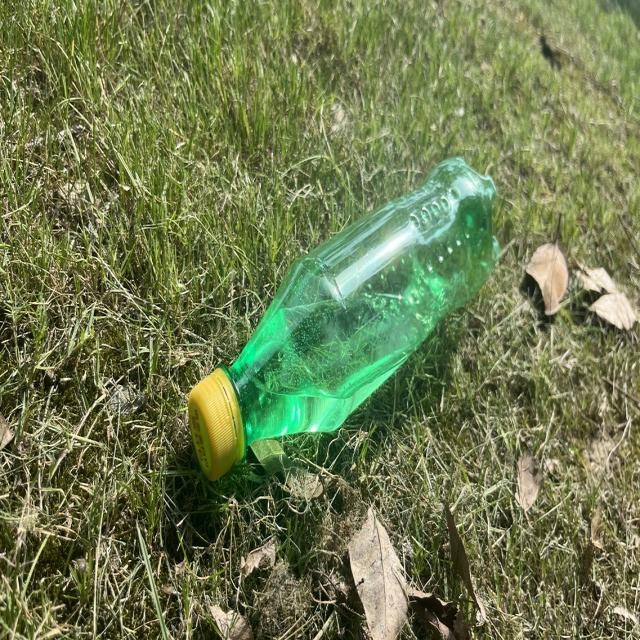low: (188, 158, 498, 479)
